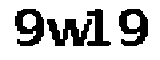1: (89, 3, 113, 54)
9: (118, 3, 153, 56), (13, 5, 45, 52)
w: (43, 15, 90, 48)
